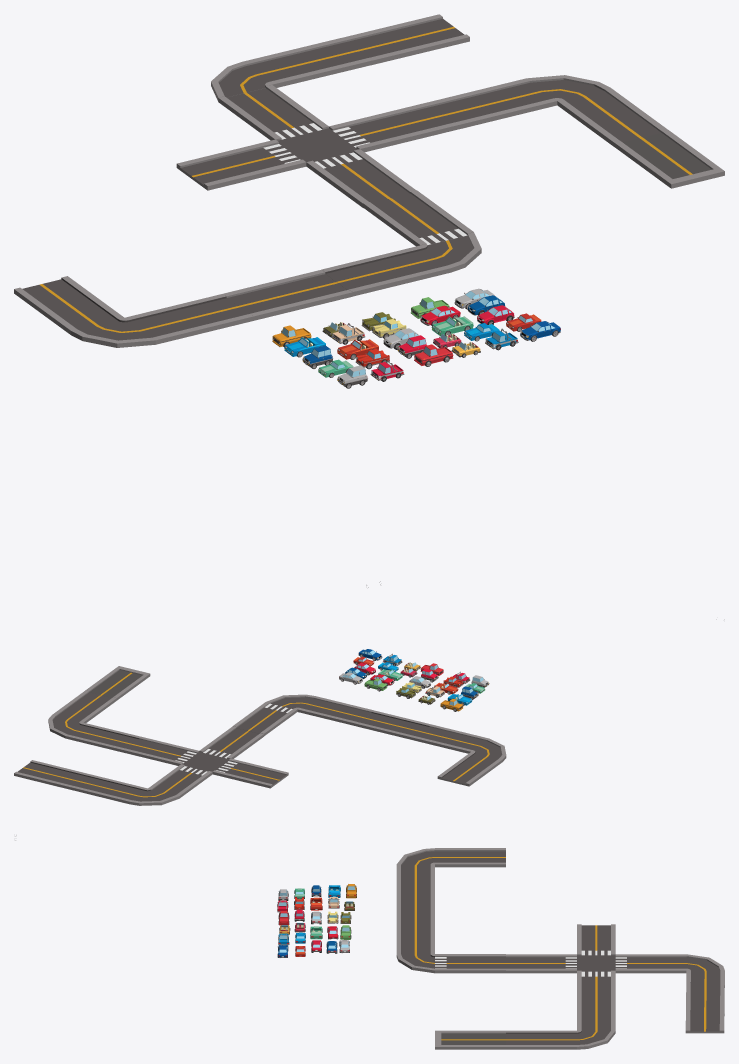
File: Cars.fbx
3 renders of one model, top to bottom at view 1: azimuth 30°, elevation 25°; view 2: azimuth 150°, elevation 25°; view 3: azimuth 270°, elevation 25°, orthographic. The views are drawn at different scales.
Visible parts, largest first — view 1: Way(3), Way(5).001, Way(5), Way(2).001, Way(2), Way(1).001, Way(1), Way(6), Way(4); view 2: Way(3), Way(5).001, Way(5), Way(2), Way(2).001, Way(1).001, Way(1), Way(6), Way(4); view 3: Way(3), Way(5), Way(5).001, Way(2).001, Way(2), Way(6), Way(4), Way(1), Way(1).001.
Part boxes in pixels (<box>): Way(3): <box>176,85,458,207</box>; Way(5).001: <box>14,276,253,347</box>; Way(5): <box>428,75,667,146</box>; Way(2).001: <box>322,232,481,296</box>; Way(2): <box>211,38,370,101</box>; Way(1).001: <box>223,269,352,320</box>; Way(1): <box>341,14,469,65</box>; Way(6): <box>614,129,724,188</box>; Way(4): <box>363,190,473,246</box>; Way(3): <box>123,726,288,798</box>; Way(5).001: <box>413,724,506,786</box>; Way(5): <box>48,690,140,752</box>; Way(2): <box>71,774,179,805</box>; Way(2).001: <box>267,694,373,725</box>; Way(1).001: <box>355,710,431,739</box>; Way(1): <box>14,760,89,789</box>; Way(6): <box>85,666,150,700</box>; Way(4): <box>233,701,297,735</box>; Way(3): <box>506,924,686,1001</box>; Way(5): <box>506,1000,615,1049</box>; Way(5).001: <box>396,848,505,895</box>; Way(2).001: <box>396,924,434,973</box>; Way(2): <box>686,954,724,1001</box>; Way(6): <box>435,1030,505,1049</box>; Way(4): <box>435,954,505,973</box>; Way(1): <box>685,1000,724,1033</box>; Way(1).001: <box>396,894,434,925</box>.
Size of the model in its own units: 14069 by 423 by 20023.
